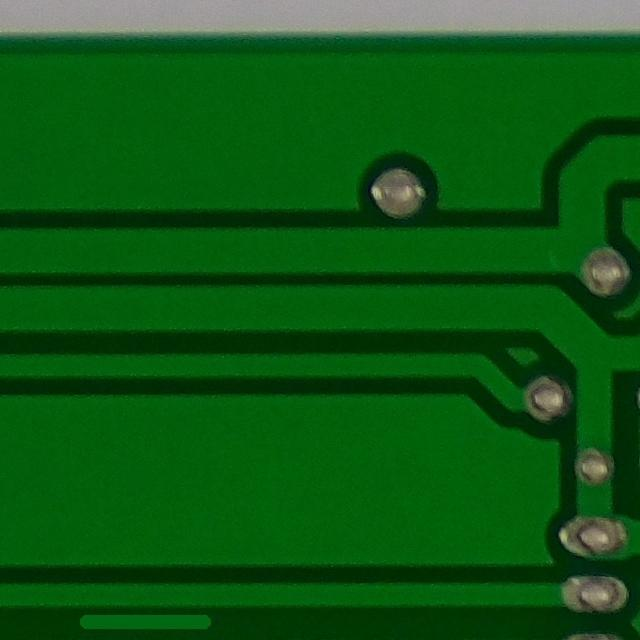spurious_copper: (66, 596, 226, 640)
